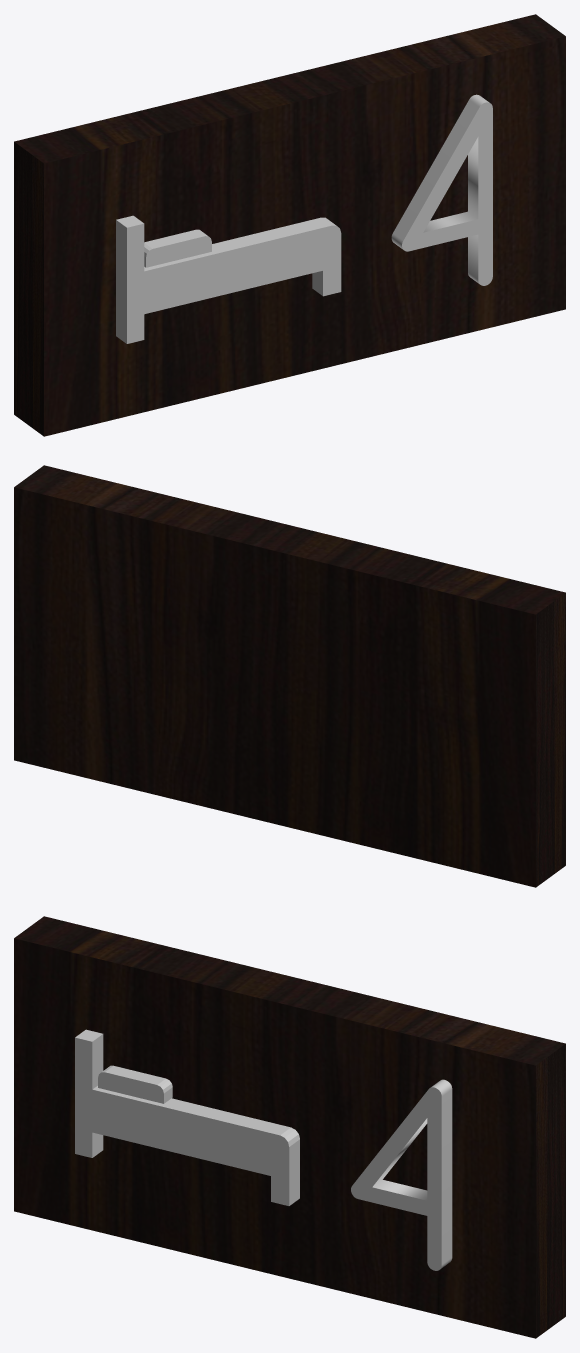
File: Bed 4.fbx
3 renders of one model, top to bottom at view 1: azimuth 30°, elevation 25°; view 2: azimuth 150°, elevation 25°; view 3: azimuth 330°, elevation 25°, orthographic.
Parts seen in each view (by area): view 1: Base, Cube, Text; view 2: Base; view 3: Base, Cube, Text.
Boxes of the visible parts, x1,y1,x2,y2 form: Base: (14, 14, 565, 436); Cube: (116, 215, 341, 343); Text: (391, 94, 492, 285); Base: (14, 465, 565, 887); Base: (14, 916, 565, 1338); Cube: (75, 1029, 299, 1205); Text: (351, 1079, 452, 1270).
Bounding box in the file's own units: 200 × 100 × 27.26.
